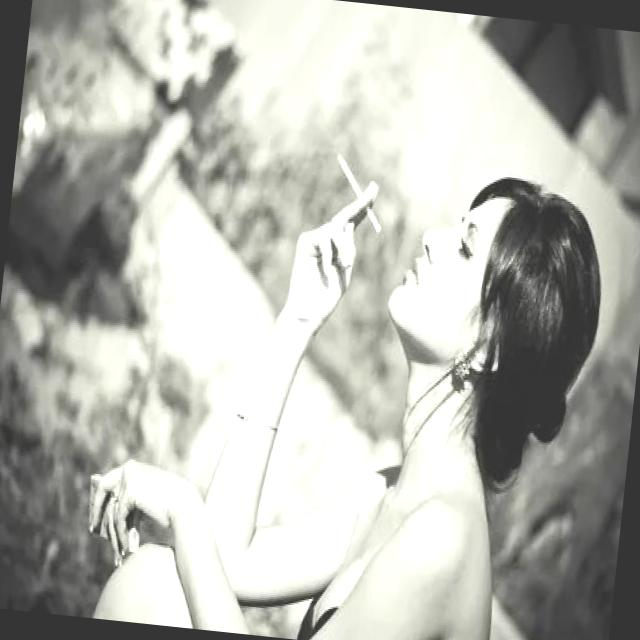smoke: (328, 151, 392, 236)
